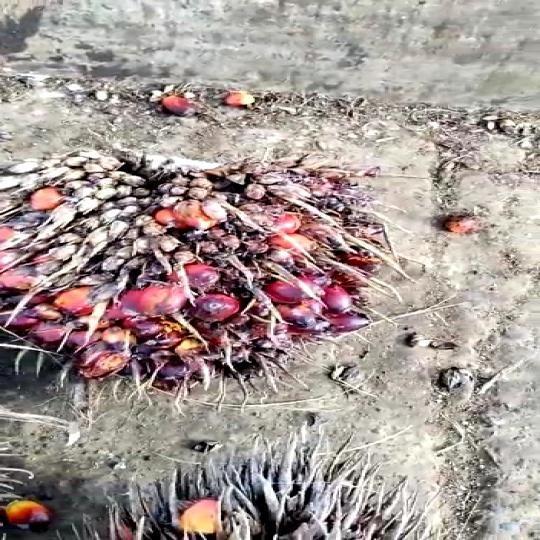masak: (0, 148, 391, 392)
